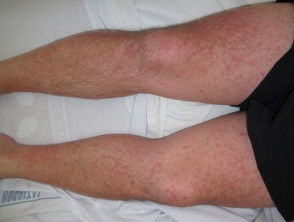SJS-TEN: (147, 3, 280, 102)
